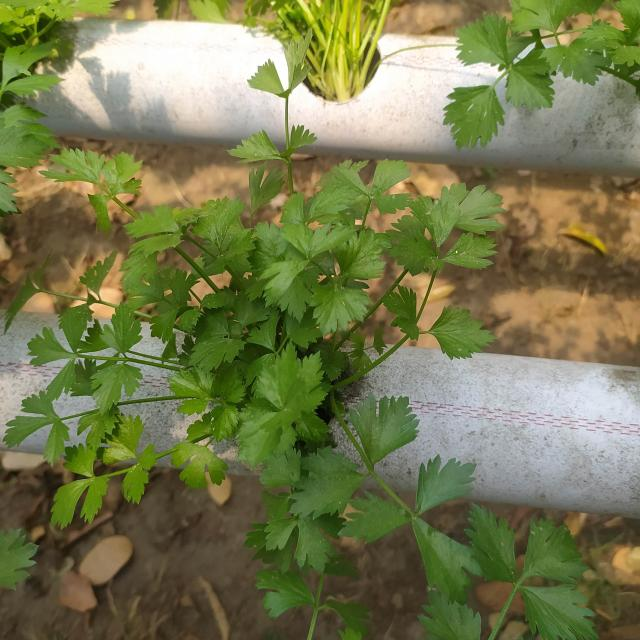Wet Waste: (181, 150, 575, 637)
